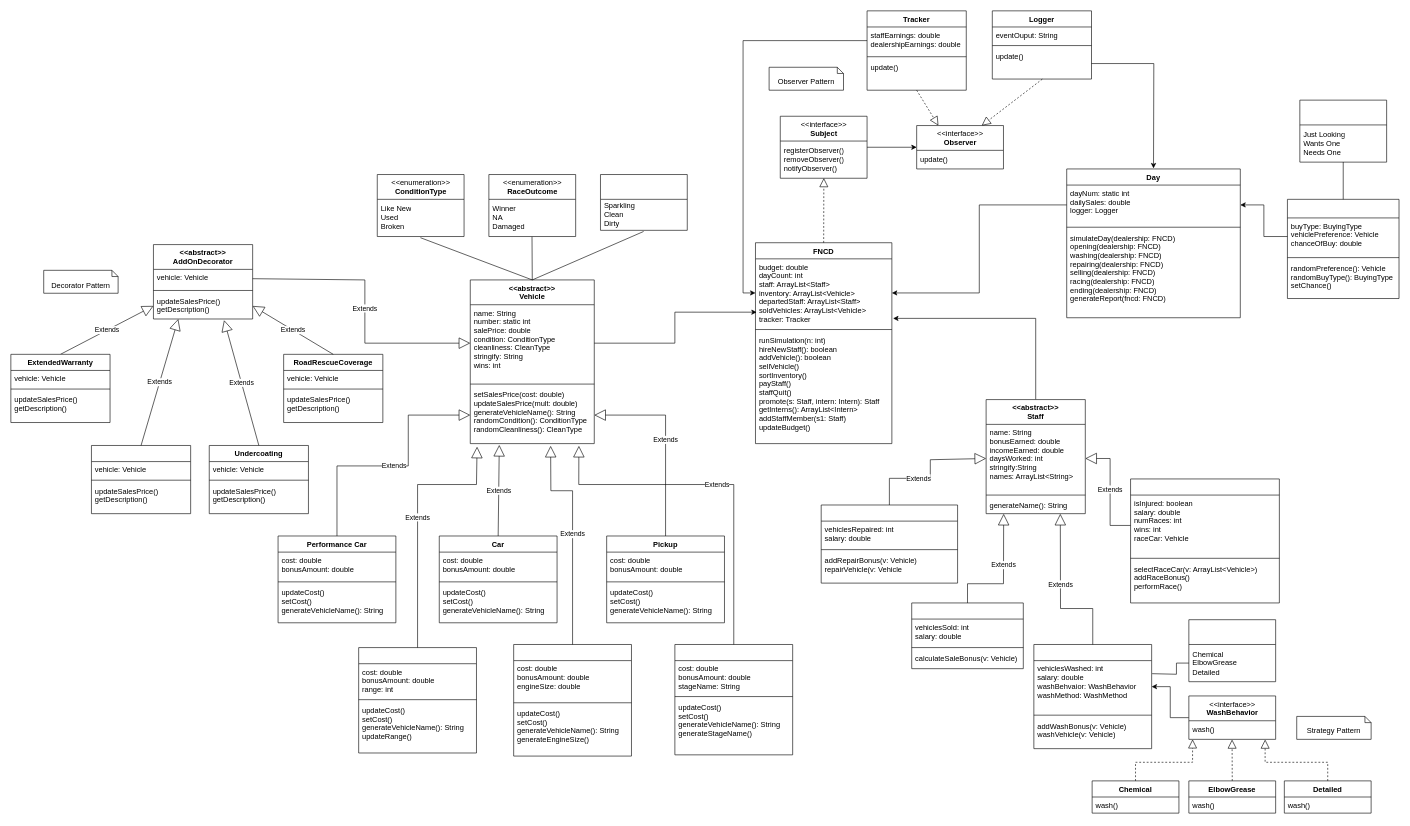
The diagram is 1410 pixels wide and 826 high, and some of its shapes have lost their labels. Each missing label, with the box of its shape:
<<enumeration>> BuyingType: (1299, 100, 1387, 162)
<<enumeration>> CleanType: (600, 174, 687, 230)
<<enumeration>> WashMethod: (1188, 619, 1276, 682)
Buyer: (1287, 199, 1399, 299)
Driver: (1130, 478, 1279, 603)
Electric Cars: (358, 647, 476, 753)
Intern: (1033, 644, 1152, 749)
Mechanic: (821, 504, 958, 583)
Monster Trucks: (674, 644, 793, 755)
Motorcycles: (513, 644, 631, 756)
Salesperson: (911, 602, 1023, 669)
SatelliteRadio: (91, 445, 191, 514)
